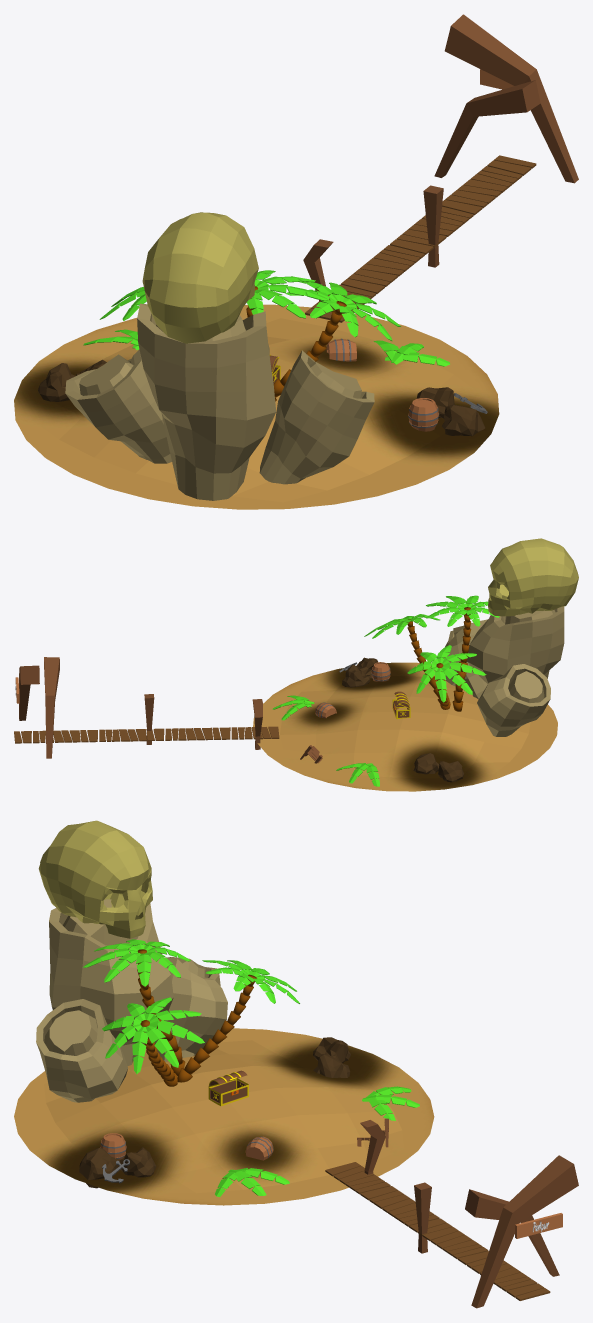
File: parkour-transformed.glb
3 views of the same model, one above another, from view 1: azimuth 30°, elevation 25°; view 2: azimuth 150°, elevation 25°; view 3: azimuth 270°, elevation 25° (orthographic). The views are drawn at different scales.
Visible parts, largest first — view 1: Circle.001, RockaGrande.002, Calabera.001, RockaMediana.004, RockaMediana.005, Puente.001, Palo.006, Palo.007, Plane.010, Plane.009, Rock1.001, Palo.004 (+4 smaller); view 2: Circle.001, Calabera.001, RockaGrande.002, RockaMediana.005, Puente.001, Plane.011, Palo.007, Plane.009, RockaMediana.004, Rock2.001, Palo.006, Rock1.001 (+6 smaller); view 3: Circle.001, Calabera.001, RockaGrande.002, RockaMediana.004, Puente.001, Palo.006, RockaMediana.005, Plane.010, Plane.009, Rock1.001, Palo.007, Plane.011 (+8 smaller).
Boxes of the visible parts, x1=… form: Circle.001: x1=14, y1=304, x2=499, y2=509; RockaGrande.002: x1=137, y1=303, x2=276, y2=500; Calabera.001: x1=142, y1=212, x2=258, y2=343; RockaMediana.004: x1=259, y1=350, x2=374, y2=484; RockaMediana.005: x1=65, y1=349, x2=171, y2=463; Puente.001: x1=305, y1=155, x2=536, y2=322; Palo.006: x1=444, y1=14, x2=578, y2=183; Palo.007: x1=434, y1=80, x2=540, y2=177; Plane.010: x1=285, y1=280, x2=392, y2=340; Plane.009: x1=247, y1=270, x2=328, y2=318; Rock1.001: x1=416, y1=387, x2=485, y2=436; Palo.004: x1=423, y1=185, x2=443, y2=267; Circle.001: x1=253, y1=662, x2=557, y2=791; Calabera.001: x1=488, y1=538, x2=578, y2=616; RockaGrande.002: x1=467, y1=606, x2=564, y2=716; RockaMediana.005: x1=477, y1=664, x2=550, y2=736; Puente.001: x1=14, y1=726, x2=279, y2=743; Plane.011: x1=407, y1=645, x2=486, y2=702; Palo.007: x1=44, y1=657, x2=59, y2=758; Plane.009: x1=426, y1=595, x2=499, y2=626; RockaMediana.004: x1=443, y1=619, x2=487, y2=699; Rock2.001: x1=413, y1=753, x2=463, y2=782; Palo.006: x1=19, y1=665, x2=39, y2=720; Rock1.001: x1=342, y1=657, x2=377, y2=687; Circle.001: x1=14, y1=1028, x2=434, y2=1205; Calabera.001: x1=38, y1=820, x2=152, y2=938; RockaGrande.002: x1=49, y1=899, x2=173, y2=1065; RockaMediana.004: x1=36, y1=999, x2=127, y2=1102; Puente.001: x1=325, y1=1162, x2=550, y2=1300; Palo.006: x1=471, y1=1155, x2=578, y2=1308; RockaMediana.005: x1=155, y1=957, x2=227, y2=1061; Plane.010: x1=102, y1=997, x2=204, y2=1067; Plane.009: x1=83, y1=939, x2=190, y2=986; Rock1.001: x1=79, y1=1147, x2=156, y2=1188; Palo.007: x1=465, y1=1189, x2=559, y2=1276; Plane.011: x1=202, y1=960, x2=299, y2=1003.
Size of the model in its own units: 37.58 by 16 by 31.33.
Materials: 16 (1 with a texture image).
